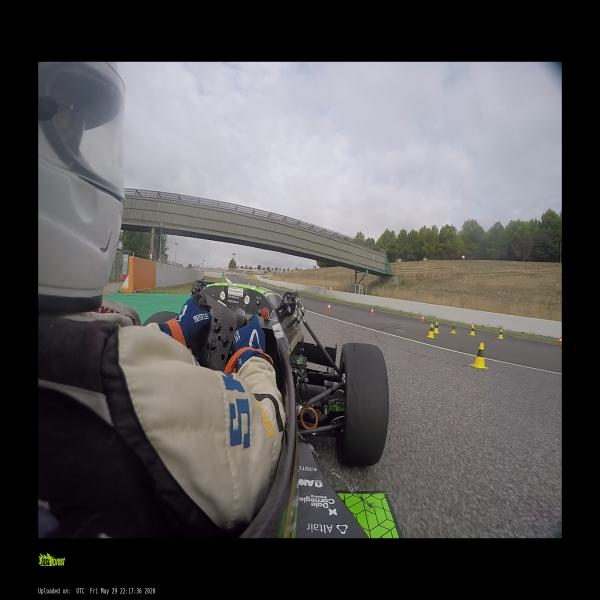orange_cone: (326, 303, 332, 312), (370, 307, 374, 315), (557, 336, 561, 344), (470, 322, 474, 330), (421, 315, 424, 322)
yellow_cone: (470, 343, 488, 369), (426, 324, 435, 339), (433, 321, 439, 334), (469, 326, 476, 336), (450, 323, 456, 334), (497, 330, 503, 340)
